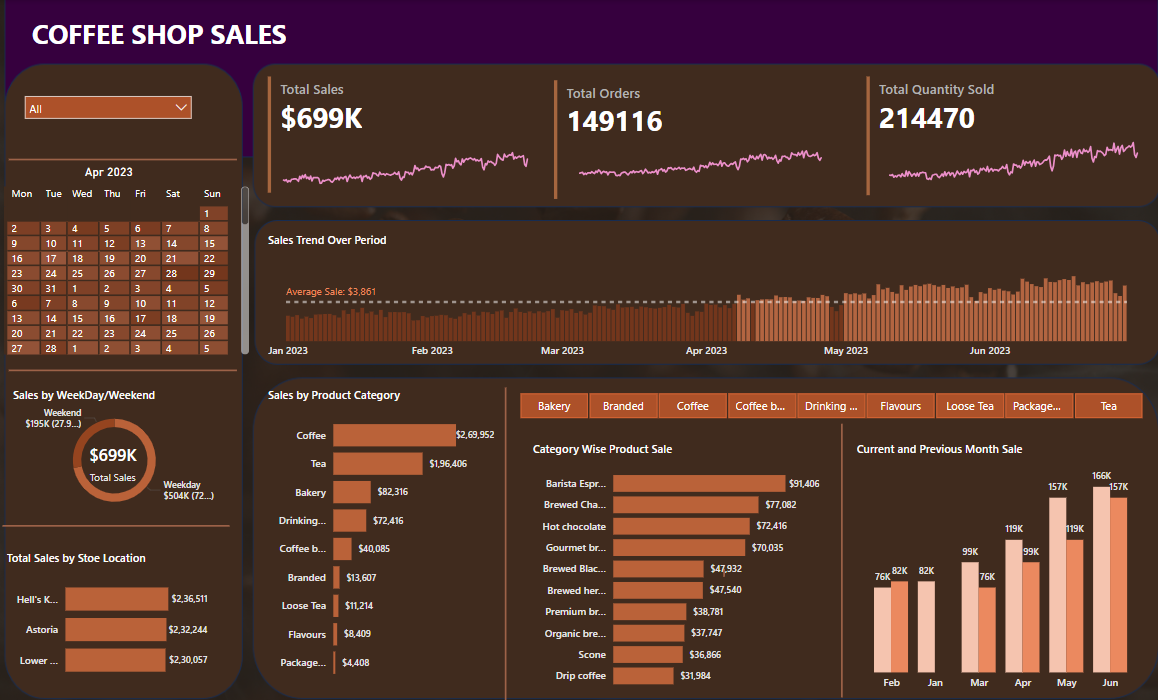

Layout of this report page (visuals, bound fields, positions):
{"tool":"powerbi","page":{"name":"Page 1","canvas":[1400,850],"ordinal":0},"visuals":[{"type":"textbox","box":[33.1,13.6,456.2,60.2],"z":0},{"type":"cardVisual","fields":{"Data":["Transactions.Total Sales"]},"box":[317.7,87.3,343.3,150.6],"z":1000},{"type":"slicer","fields":{"Values":["Date Table.Month Year"]},"box":[19.6,105.4,221.3,63.2],"z":2000},{"type":"lineChart","fields":{"Y":["Transactions.Total Sales"],"Category":["Date Table.Date.Variation.Date Hierarchy.Year","Date Table.Date.Variation.Date Hierarchy.Quarter","Date Table.Date.Variation.Date Hierarchy.Month","Date Table.Date.Variation.Date Hierarchy.Day"]},"box":[326.7,156.6,323.7,70.8],"z":3000},{"type":"cardVisual","fields":{"Data":["Transactions.Total Orders"]},"box":[662.5,91.8,364.4,153.6],"z":4000},{"type":"lineChart","fields":{"Category":["Date Table.Date.Variation.Date Hierarchy.Year","Date Table.Date.Variation.Date Hierarchy.Quarter","Date Table.Date.Variation.Date Hierarchy.Month","Date Table.Date.Variation.Date Hierarchy.Day"],"Y":["Transactions.Total Orders"]},"box":[683.6,162.6,320.7,70.8],"z":5000},{"type":"cardVisual","fields":{"Data":["Transactions.Total Quantity Sold"]},"box":[1038.9,87.3,346.3,153.6],"z":6000},{"type":"lineChart","fields":{"Category":["Date Table.Date.Variation.Date Hierarchy.Year","Date Table.Date.Variation.Date Hierarchy.Quarter","Date Table.Date.Variation.Date Hierarchy.Month","Date Table.Date.Variation.Date Hierarchy.Day"],"Y":["Transactions.Total Quantity Sold"]},"box":[1057,156.6,328.2,70.8],"z":7000},{"type":"pivotTable","fields":{"Columns":["Date Table.Day Name"],"Values":["Min(Date Table.Day Number)"],"Rows":["Date Table.WeekNum"]},"box":[0,219.3,304.8,212.2],"z":8000},{"type":"card","fields":{"Values":["Min(Date Table.Month Year)"]},"box":[82.6,192.3,96.9,29.9],"z":9000},{"type":"shape","box":[734.9,685.1,274.9,10],"z":11000},{"type":"donutChart","title":"Sales by WeekDay/Weekend","fields":{"Y":["Transactions.Total Sales"],"Category":["Date Table.WeekDay/Weekend"]},"box":[10,467.2,254.9,158.1],"z":12000},{"type":"card","fields":{"Values":["Transactions.Total Sales"]},"box":[94,531.3,85.5,52.7],"z":13000},{"type":"shape","box":[2.8,625.3,273.5,17.1],"z":14000},{"type":"clusteredBarChart","title":"Total Sales by Stoe Location","fields":{"Y":["Transactions.Total Sales"],"Category":["Transactions.store_location"]},"box":[2.8,662.3,252.1,168.1],"z":15000},{"type":"columnChart","title":"Sales Trend Over Period","fields":{"Category":["Transactions.transaction_date"],"Y":["Transactions.Total Sales"]},"box":[317.7,280.1,1067.5,161.1],"z":16000},{"type":"clusteredBarChart","title":"Sales by Product Category","fields":{"Y":["Transactions.Total Sales"],"Category":["Transactions.product_category"]},"box":[317.7,466.8,283.1,364.4],"z":17000},{"type":"shape","box":[10,441.6,274.9,10],"z":18000},{"type":"shape","box":[1001.3,510.4,25.6,329.7],"z":19000},{"type":"clusteredBarChart","title":"Category Wise Product Sale","fields":{"Y":["Transactions.Total Sales"],"Category":["Transactions.product_type"]},"box":[636.9,531.5,355.3,308.7],"z":20000},{"type":"shape","box":[600.8,466.8,16.6,384],"z":21000},{"type":"slicer","fields":{"Values":["Transactions.product_category"]},"box":[600.8,466.8,799.5,43.7],"z":23000},{"type":"shape","box":[10,182.3,274.9,19.9],"z":24000},{"type":"clusteredColumnChart","title":"Current and Previous Month Sale","fields":{"Y":["Transactions.CM Sales","Transactions.PM Sales"],"Category":["Date Table.Month"]},"box":[1026.9,531.5,358.4,308.7],"z":25000}]}

Visuals, with their boxes in screenshot pixels (x1, y1, x2, y2), scaled from the page's 1400x850 canvas onto the 1158x700 screenshot:
textbox: bbox=(27, 11, 405, 61)
cardVisual - Transactions.Total Sales: bbox=(263, 72, 547, 196)
slicer - Date Table.Month Year: bbox=(16, 87, 199, 139)
lineChart - Transactions.Total Sales x Date Table.Date.Variation.Date Hierarchy.Year: bbox=(270, 129, 538, 187)
cardVisual - Transactions.Total Orders: bbox=(548, 76, 849, 202)
lineChart - Date Table.Date.Variation.Date Hierarchy.Year x Date Table.Date.Variation.Date Hierarchy.Quarter: bbox=(565, 134, 831, 192)
cardVisual - Transactions.Total Quantity Sold: bbox=(859, 72, 1146, 198)
lineChart - Date Table.Date.Variation.Date Hierarchy.Year x Date Table.Date.Variation.Date Hierarchy.Quarter: bbox=(874, 129, 1146, 187)
pivotTable - Date Table.Day Name x Min(Date Table.Day Number): bbox=(0, 181, 252, 355)
card - Min(Date Table.Month Year): bbox=(68, 158, 148, 183)
shape: bbox=(608, 564, 835, 572)
"Sales by WeekDay/Weekend" donutChart: bbox=(8, 385, 219, 515)
card - Transactions.Total Sales: bbox=(78, 438, 148, 481)
shape: bbox=(2, 515, 229, 529)
"Total Sales by Stoe Location" clusteredBarChart: bbox=(2, 545, 211, 684)
"Sales Trend Over Period" columnChart: bbox=(263, 231, 1146, 363)
"Sales by Product Category" clusteredBarChart: bbox=(263, 384, 497, 685)
shape: bbox=(8, 364, 236, 372)
shape: bbox=(828, 420, 849, 692)
"Category Wise Product Sale" clusteredBarChart: bbox=(527, 438, 821, 692)
shape: bbox=(497, 384, 511, 699)
slicer - Transactions.product_category: bbox=(497, 384, 1157, 420)
shape: bbox=(8, 150, 236, 167)
"Current and Previous Month Sale" clusteredColumnChart: bbox=(849, 438, 1146, 692)
